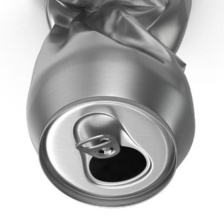can: (12, 0, 207, 210)
